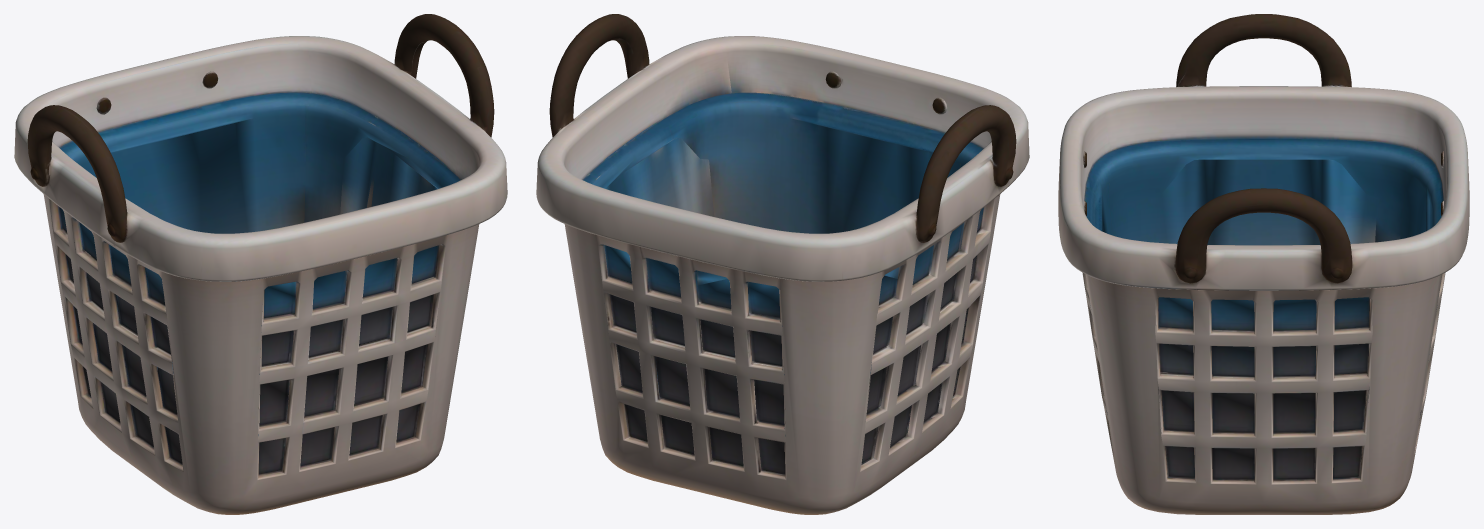
The model's file is Inside__a_laundry_basket_315652c4_v2.cluster.glb.
3 renders of one model, left to right at view 1: azimuth 30°, elevation 25°; view 2: azimuth 150°, elevation 25°; view 3: azimuth 270°, elevation 25°, orthographic. The views are drawn at different scales.
Parts seen in each view (by area): view 1: material; view 2: material; view 3: material.
Boxes of the visible parts, <box> form: material: <box>14,14,507,514</box>; material: <box>536,14,1029,514</box>; material: <box>1058,14,1469,514</box>.
Size of the model in its own units: 1.9 by 1.74 by 1.79.
Materials: 1 (1 with a texture image).
